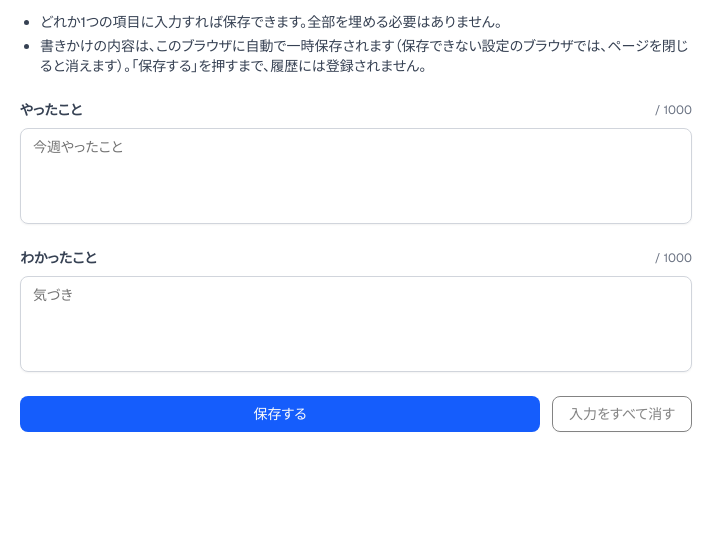
Scenario: ReflectionForm 保存時の検証エラーの消去 › 「どれか1つ以上入力」のエラーは、入力したら消える
The image size is (713, 534).
Click the button "保存する" at (280, 414), box [20, 396, 540, 432]
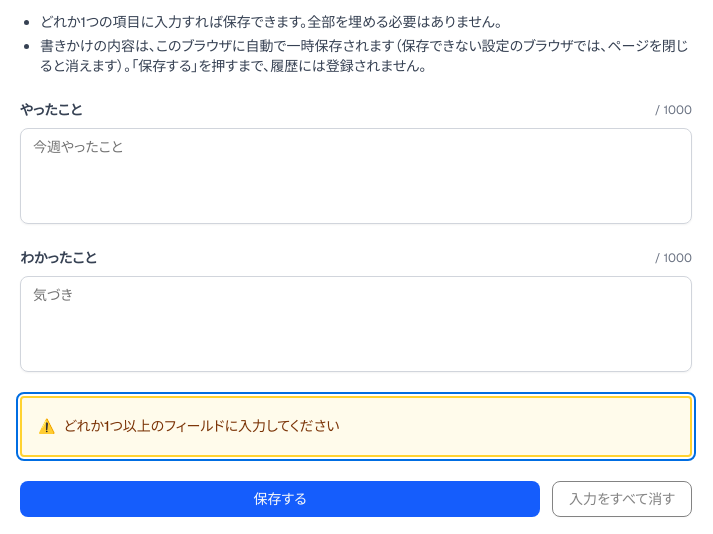
Expected: the text "どれか1つ以上のフィールドに入力してください" is shown, [64, 417, 339, 435]
Type "書いた" into the text box labelled "やったこと" at (356, 176), box [20, 128, 692, 224]
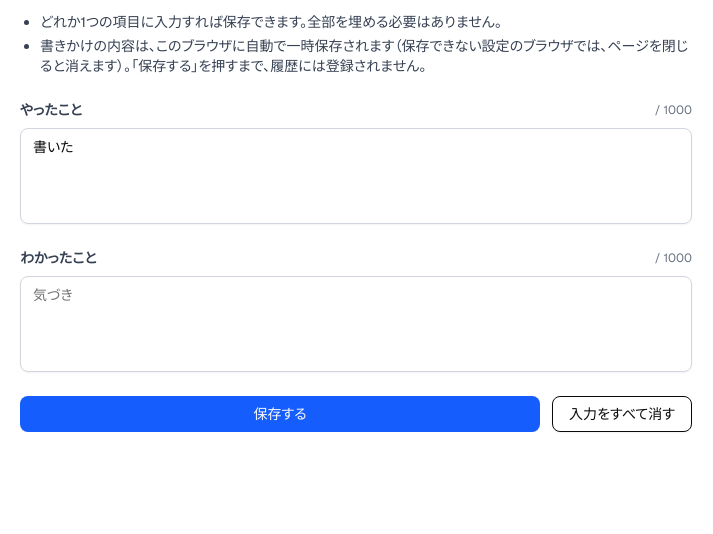
Expected: the text "どれか1つ以上のフィールドに入力してください" is gone
